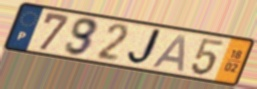2: (95, 22, 130, 64)
5: (189, 36, 226, 76)
7: (39, 11, 72, 53)
9: (63, 17, 101, 58)
A: (150, 33, 188, 74)
J: (126, 27, 167, 67)
